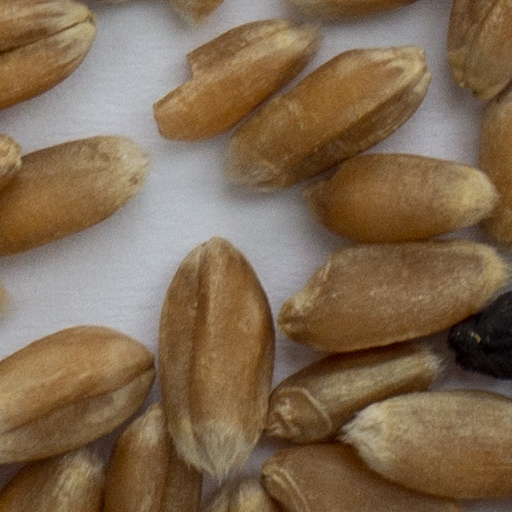Agrostemma-poly: (448, 292, 511, 379)
